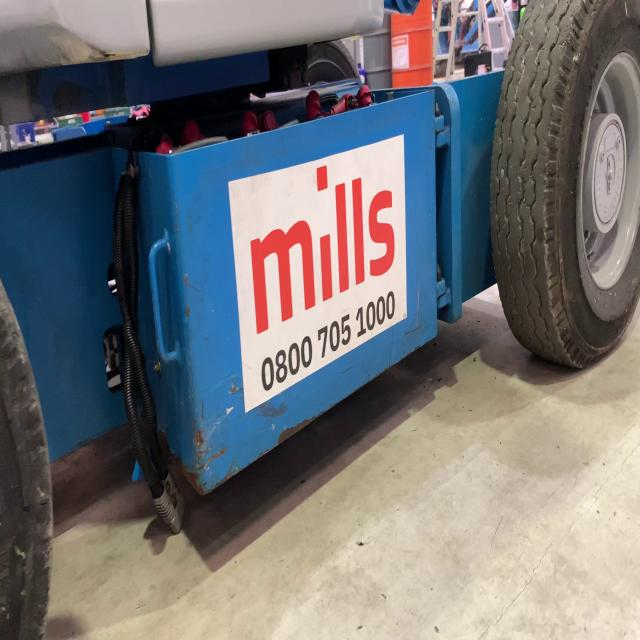Adesivos: (226, 132, 408, 416)
